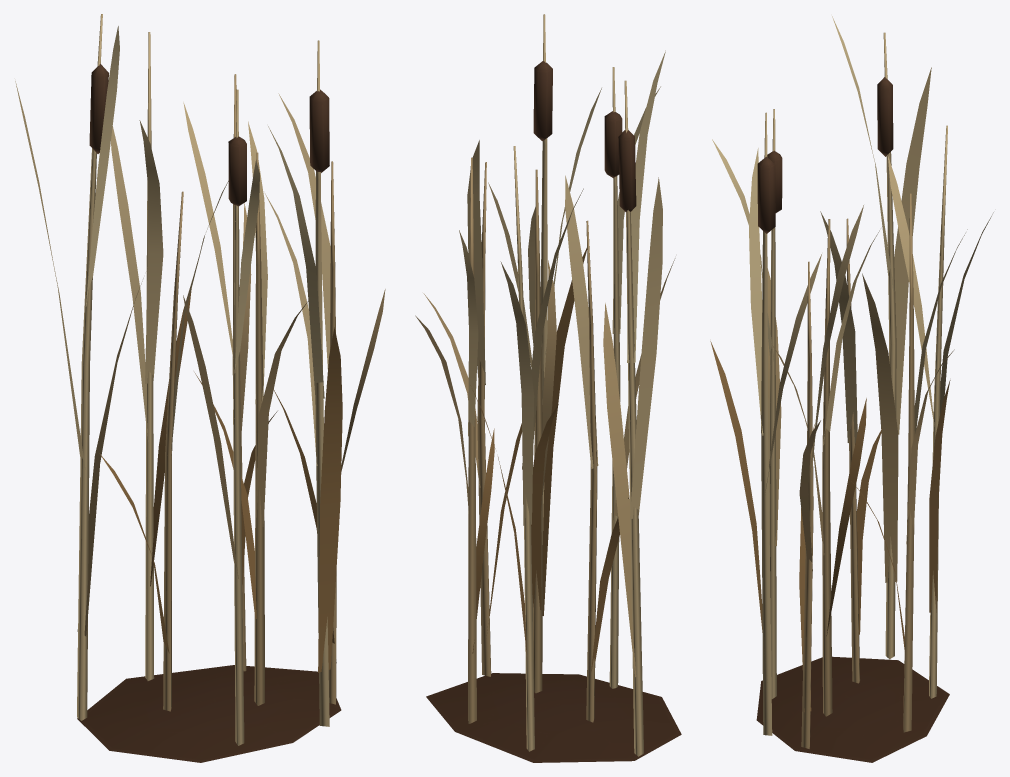
Rendered from reeds_1_winter.glb.
The picture shows the model from 3 angles, left to right: view 1: azimuth 30°, elevation 25°; view 2: azimuth 150°, elevation 25°; view 3: azimuth 270°, elevation 25°; orthographic projection. The views are drawn at different scales.
Parts seen in each view (by area): view 1: reeds_1_winter; view 2: reeds_1_winter; view 3: reeds_1_winter.
Boxes of the visible parts, x1,y1,x2,y2 form: reeds_1_winter: (15,14,385,762); reeds_1_winter: (415,14,681,762); reeds_1_winter: (710,16,993,762).
Bounding box in the file's own units: 0.9 × 2 × 0.8.
2 materials, 2 textured.
